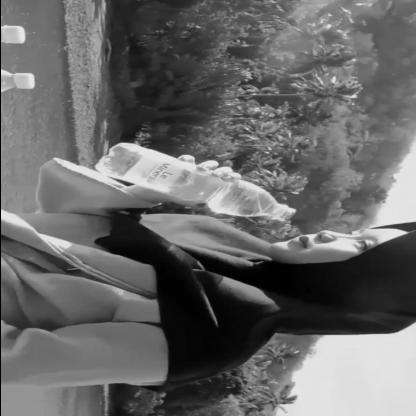plastic_bottles: (90, 144, 302, 222)
